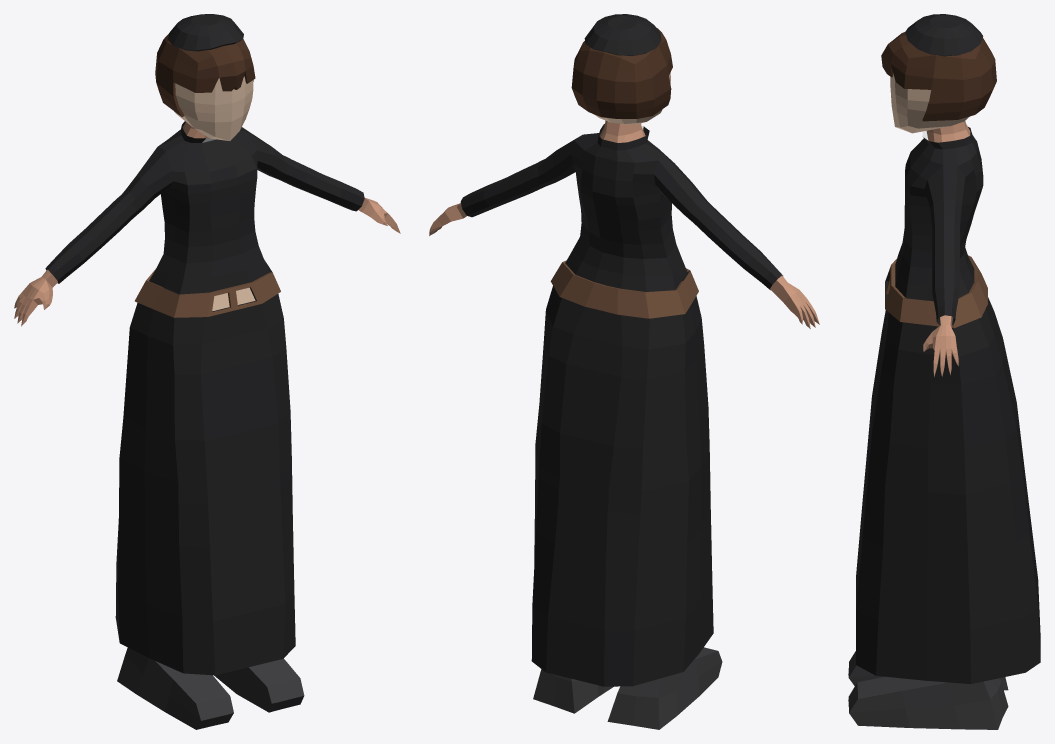
File: sacerdote.fbx
3 renders of one model, left to right at view 1: azimuth 30°, elevation 25°; view 2: azimuth 150°, elevation 25°; view 3: azimuth 270°, elevation 25°, orthographic.
Visible parts, largest first — view 1: cuerpo, cabello, cabeza, gorro, manos; view 2: cuerpo, cabello, gorro, manos; view 3: cuerpo, cabello, gorro, cabeza, manos.
Part boxes in pixels (x1,y1,x2,y2): cuerpo: (45, 121, 364, 729); cabello: (155, 34, 255, 117); cabeza: (174, 76, 253, 140); gorro: (168, 14, 243, 51); manos: (14, 197, 400, 326); cuerpo: (460, 120, 782, 729); cabello: (571, 28, 672, 118); gorro: (584, 14, 661, 55); manos: (429, 203, 819, 328); cuerpo: (848, 121, 1040, 729); cabello: (881, 32, 996, 121); gorro: (905, 14, 983, 56); cabeza: (890, 73, 969, 133); manos: (923, 315, 958, 376).
Size of the model in its own units: 114 by 190 by 48.85.
1 material, 1 textured.
